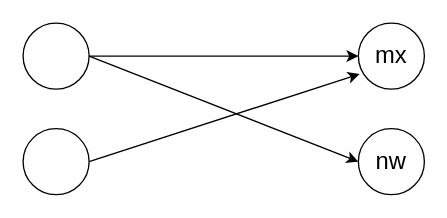
Image size: 447x218. Some labels were removed from this diagram. The centre of each missing label's shape, as x and y in pixels:
"mw" belongs at pixel 55 55.
"nx" belongs at pixel 55 161.
